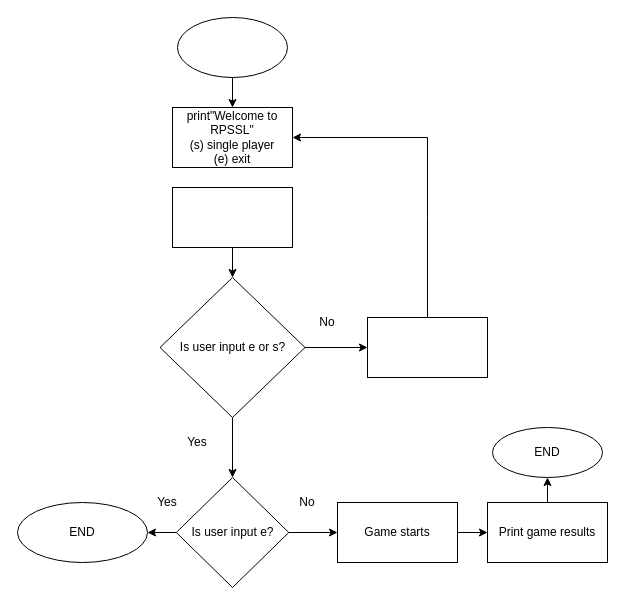
Image size: 625x605. Some labels were removed from this diagram. Each missing label, with the centre of its shape:
"Print wrong input try again!" goes at point (427, 347).
"Scan user input" goes at point (232, 217).
"START" goes at point (232, 47).
